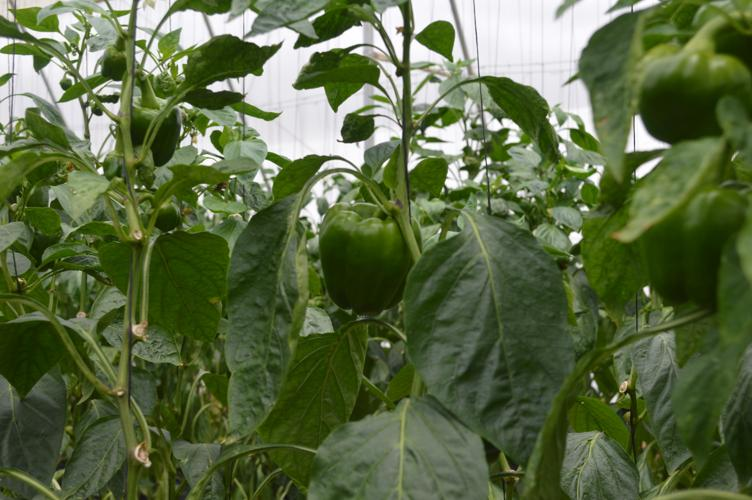BellPepper: (629, 186, 732, 306), (318, 204, 422, 318), (637, 54, 744, 141), (124, 101, 179, 169)
